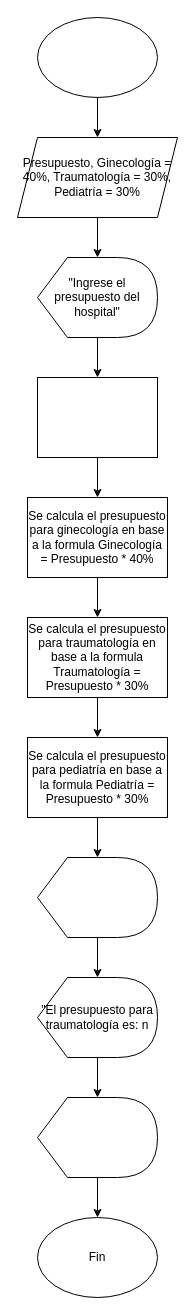
Image size: 195x1315. Some labels were removed from this diagram. Here are the shapes that lost their labels. From the top down, the centre of each, then its label:
point 97,57: Inicio
point 97,417: Digitar el presupuesto del hospital
point 97,897: "El presupuesto para ginecología es: n
point 97,1137: "El presupuesto para pediatría es: n"
